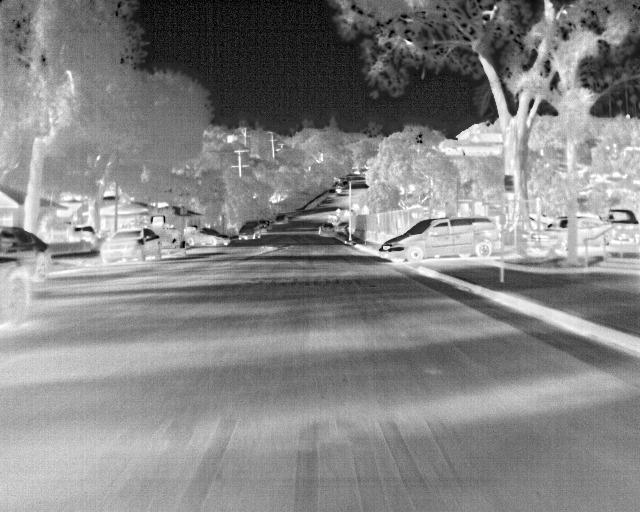car: (377, 213, 501, 266), (0, 255, 43, 328), (99, 228, 161, 266), (578, 212, 613, 250), (530, 216, 564, 251), (606, 208, 638, 244), (184, 227, 231, 249), (70, 223, 96, 244), (236, 220, 260, 242), (317, 222, 337, 238), (274, 211, 289, 226), (257, 217, 270, 232)
